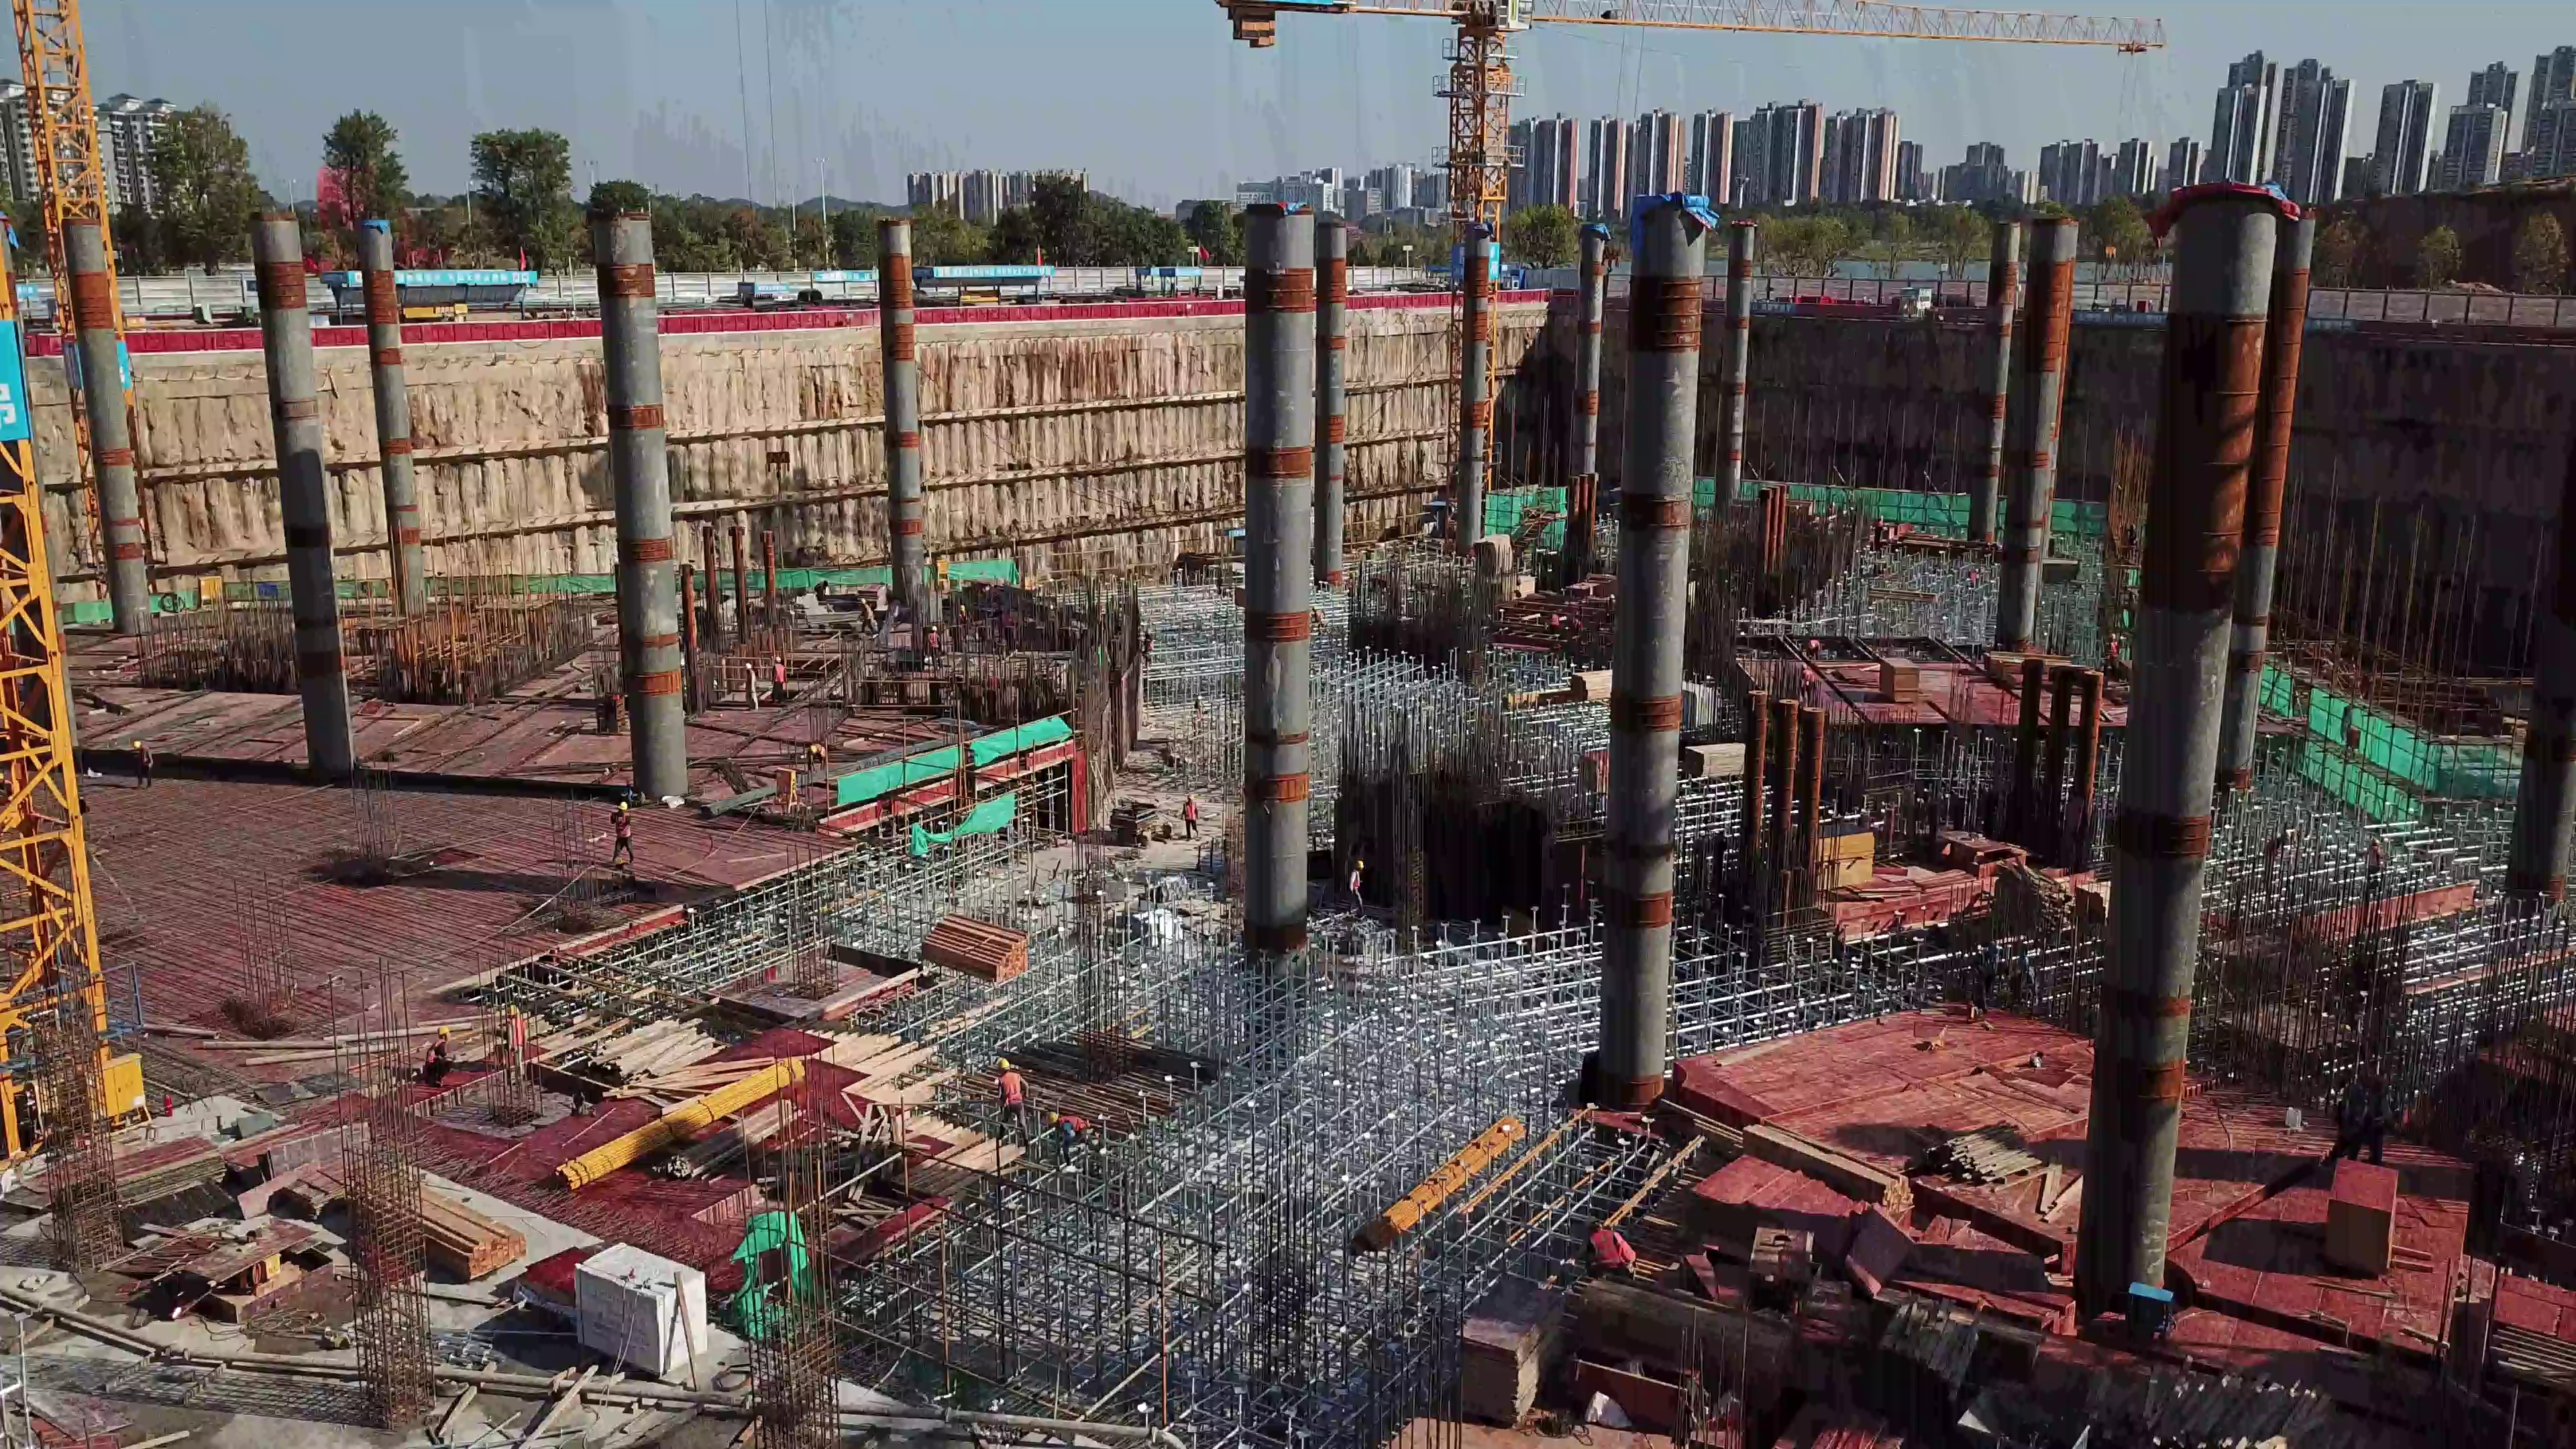board: (1453, 1273, 1559, 1414), (2326, 1151, 2395, 1272), (112, 1139, 227, 1203), (1882, 653, 1923, 712), (1581, 737, 1607, 804)
ebox: (86, 1049, 150, 1132), (773, 769, 800, 807)
fence: (2298, 289, 2576, 351), (1731, 262, 1990, 322), (619, 299, 1249, 322), (21, 325, 612, 347), (2076, 282, 2188, 332), (1347, 282, 1553, 306)
helmet: (434, 1025, 453, 1038), (999, 1059, 1013, 1069)
person: (1044, 1108, 1098, 1161), (992, 1059, 1024, 1142), (2365, 1070, 2393, 1164), (2339, 1073, 2363, 1155), (504, 1007, 529, 1083), (424, 1023, 450, 1088), (609, 802, 633, 865), (1346, 854, 1366, 916), (743, 661, 760, 718), (129, 741, 153, 786), (1180, 792, 1200, 839), (926, 623, 943, 668), (769, 653, 786, 696), (803, 741, 828, 769), (1796, 667, 1818, 698), (2106, 632, 2119, 676), (1142, 631, 1152, 669), (1805, 638, 1821, 661), (957, 604, 967, 627)
vest: (1588, 1234, 1629, 1268), (1001, 1073, 1031, 1105)
wood: (2075, 1371, 2417, 1449), (340, 1181, 521, 1283), (1924, 1120, 2078, 1220), (586, 1019, 750, 1101), (1888, 1307, 1998, 1406), (923, 909, 1031, 989), (1987, 652, 2080, 680)
